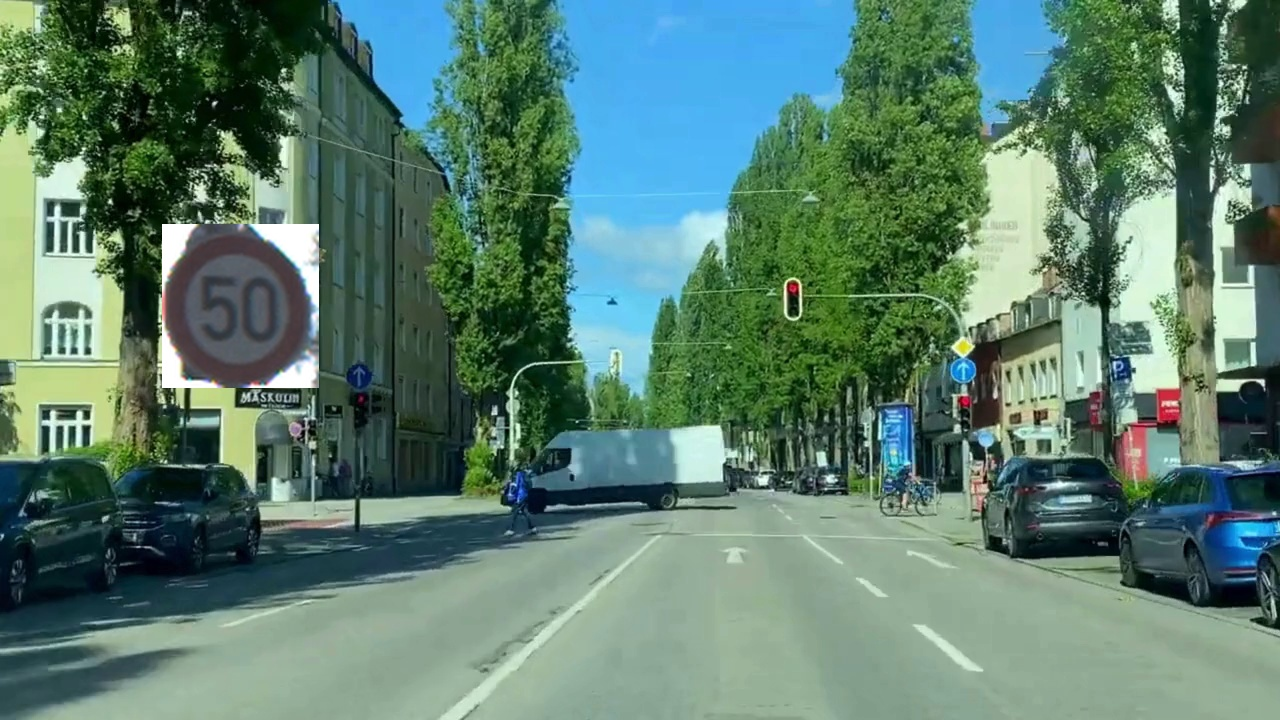Speed 50: (162, 224, 319, 388)
